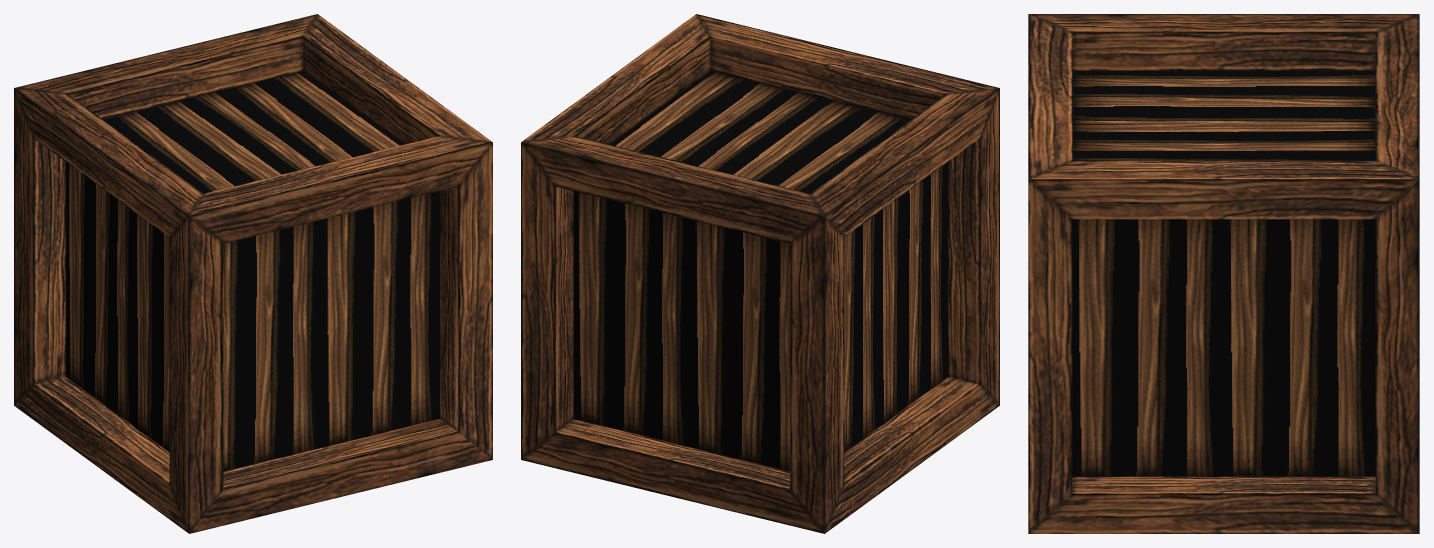
The model's file is INST_LT_CRATESLATS.fbx.
The picture shows the model from 3 angles, left to right: view 1: azimuth 30°, elevation 25°; view 2: azimuth 150°, elevation 25°; view 3: azimuth 270°, elevation 25°; orthographic projection. The views are drawn at different scales.
Visible parts, largest first — view 1: INST_LT_CRATESLATS; view 2: INST_LT_CRATESLATS; view 3: INST_LT_CRATESLATS.
Boxes of the visible parts, bbox=[...] form: INST_LT_CRATESLATS: bbox=[14, 14, 492, 533]; INST_LT_CRATESLATS: bbox=[521, 14, 999, 533]; INST_LT_CRATESLATS: bbox=[1028, 14, 1419, 533].
Size of the model in its own units: 10000 by 10000 by 10000.
Materials: 2 (2 with a texture image).
